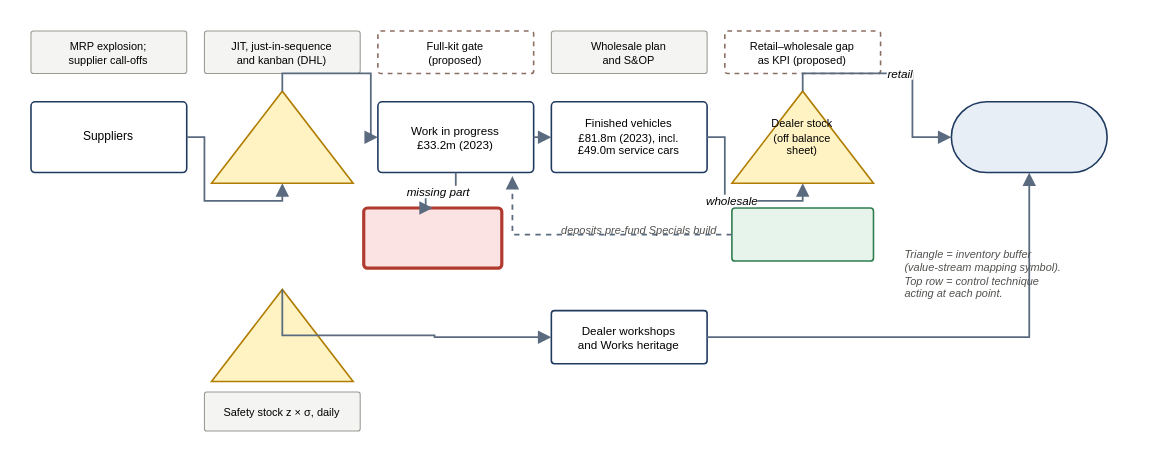
The diagram is 1172 pixels wide and 462 high, and some of its shapes have lost their labels. Here are the shapes that lost their labels. From the top down, the centre of each, then its label:
At (x=281, y=136): "Parts at DHL hubs, line-side (3–5 days)".
At (x=1028, y=136): "Customer".
At (x=432, y=237): "Stalled WIP: rejoins line when part arrives (350 DBX707s, 2022)".
At (x=801, y=233): "Specials deposits £272m (2023)".
At (x=281, y=334): "Service parts c.80,000 SKUs".
